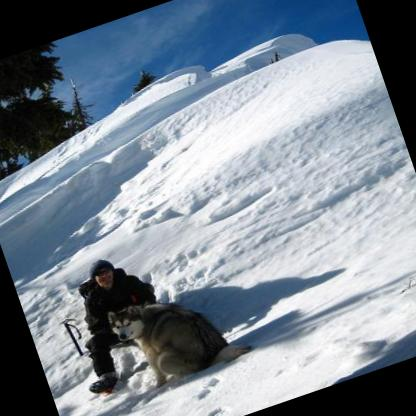malamute: (100, 270, 252, 396)
